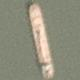ship: (21, 0, 59, 40)
